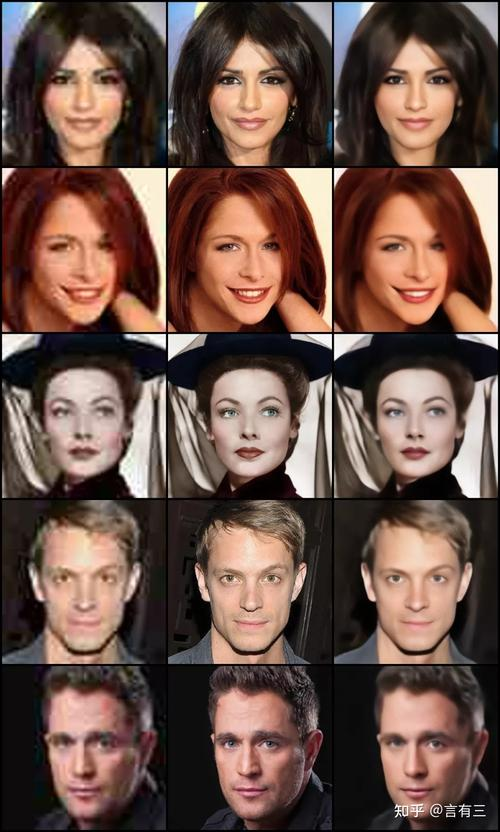no_mask: (206, 680, 315, 814), (202, 24, 308, 153), (193, 184, 294, 317), (200, 523, 304, 646), (371, 359, 466, 474)
